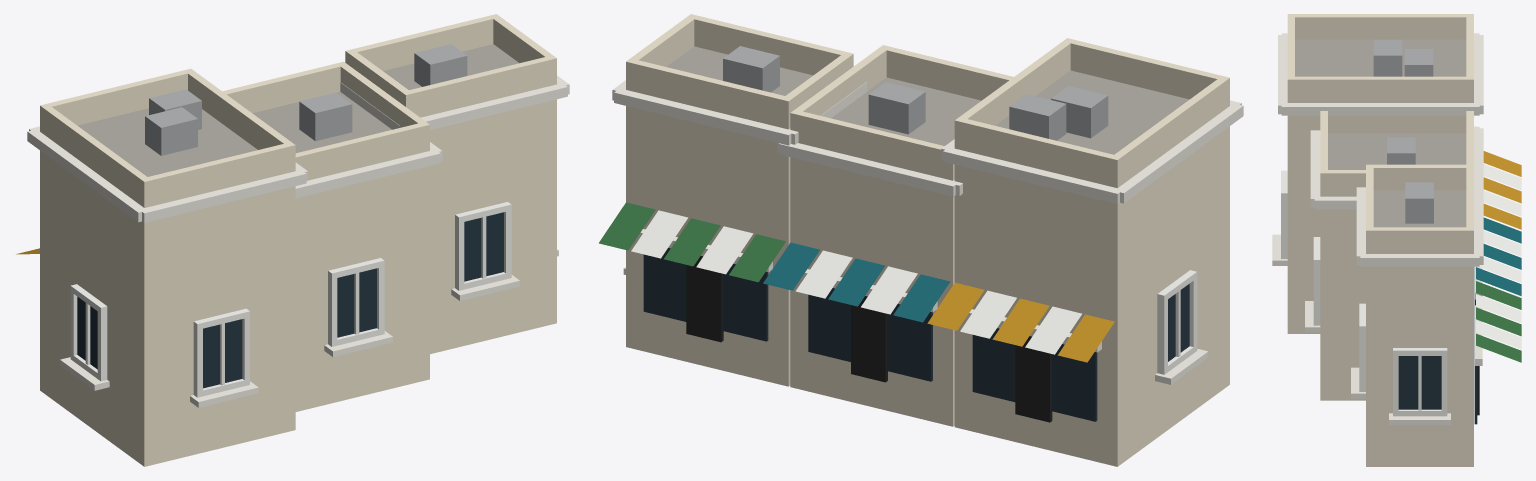
The picture shows the model from 3 angles, left to right: view 1: azimuth 30°, elevation 25°; view 2: azimuth 150°, elevation 25°; view 3: azimuth 270°, elevation 25°; orthographic projection. The views are drawn at different scales.
Parts seen in each view (by area): view 1: b9321; view 2: b9321; view 3: b9321.
Boxes of the visible parts, x1=… form: b9321: x1=16, y1=14, x2=569, y2=466; b9321: x1=599, y1=14, x2=1243, y2=466; b9321: x1=1272, y1=14, x2=1521, y2=466.
Size of the model in its own units: 5260 by 2975 by 2619.
